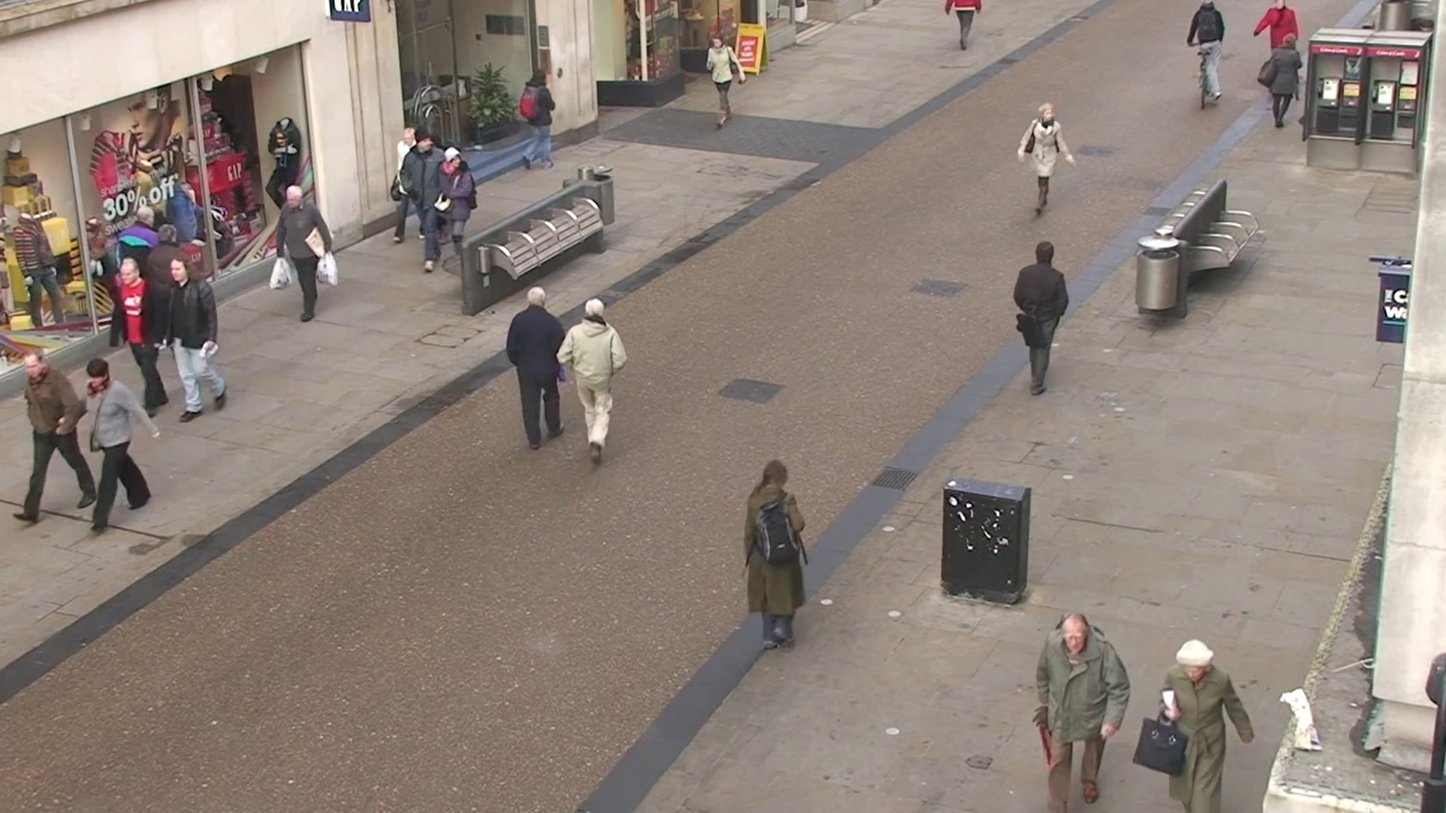person: (1033, 613, 1132, 809), (1158, 638, 1255, 813), (78, 357, 162, 533), (19, 351, 93, 527), (743, 459, 810, 650), (559, 296, 627, 465), (163, 248, 223, 419), (505, 284, 566, 449), (1012, 240, 1071, 394), (113, 251, 168, 413), (276, 183, 329, 323), (400, 129, 451, 271), (1017, 101, 1075, 218), (426, 145, 478, 271), (1185, 1, 1228, 111), (392, 128, 429, 241), (706, 34, 740, 129)
